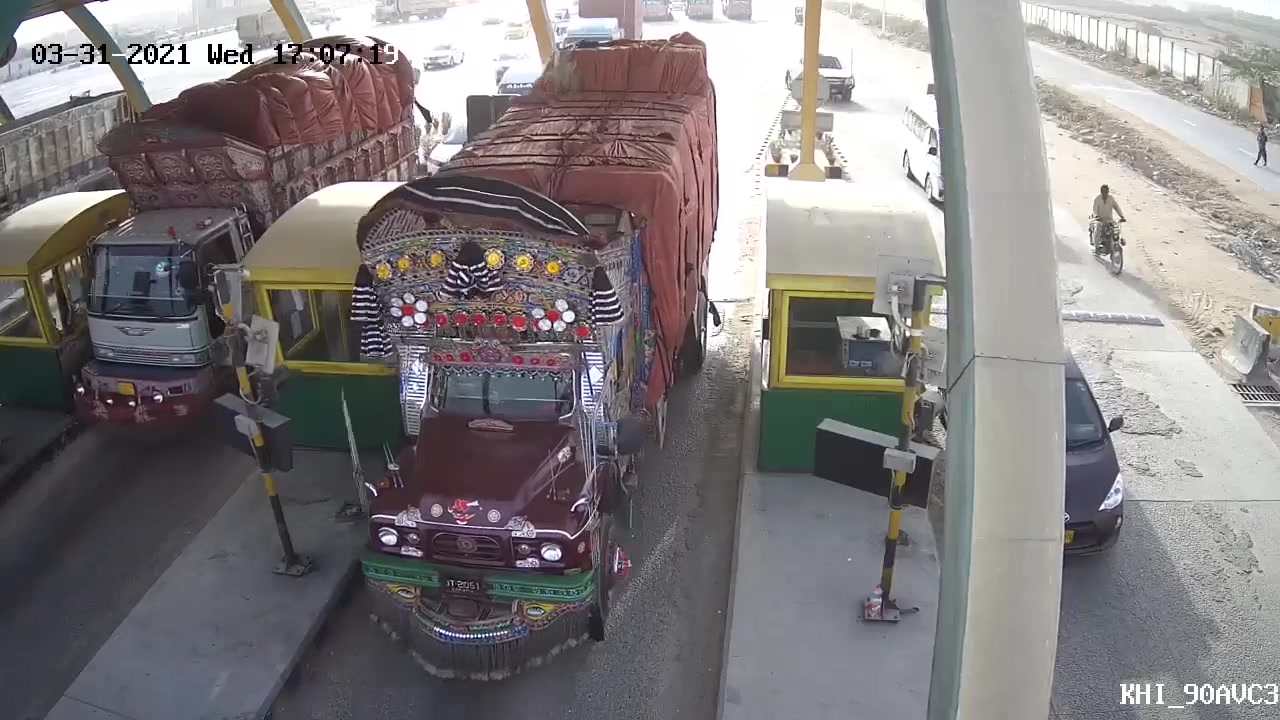F5: (314, 31, 727, 681)
